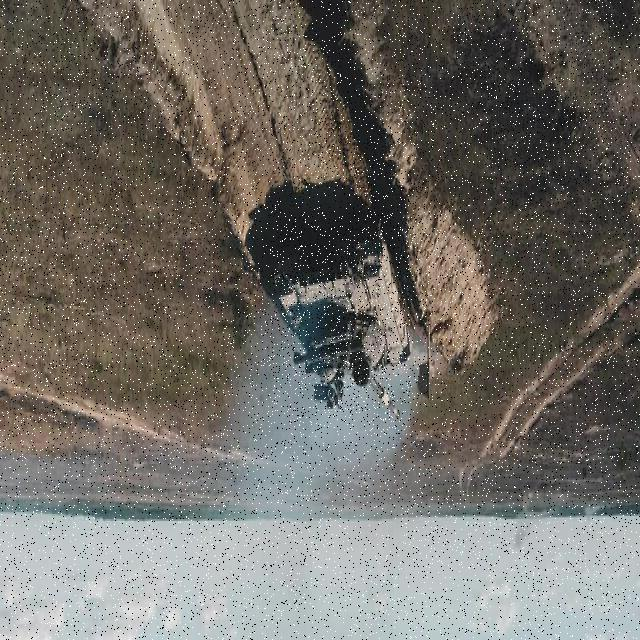MIL_MBT: (271, 212, 411, 423)
